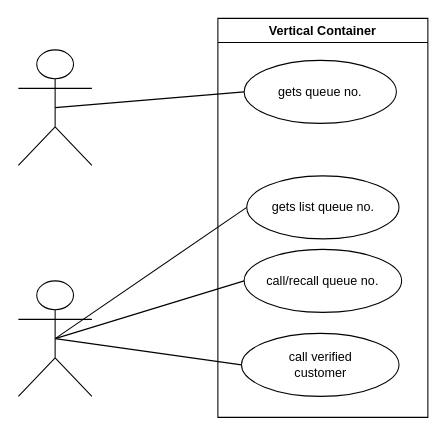
This 446x437 diagram has some shape labels left out. Here are the shapes that lost their labels. From the top down, the centre of each, then its label:
[54,107]: Customer
[54,338]: Teller
